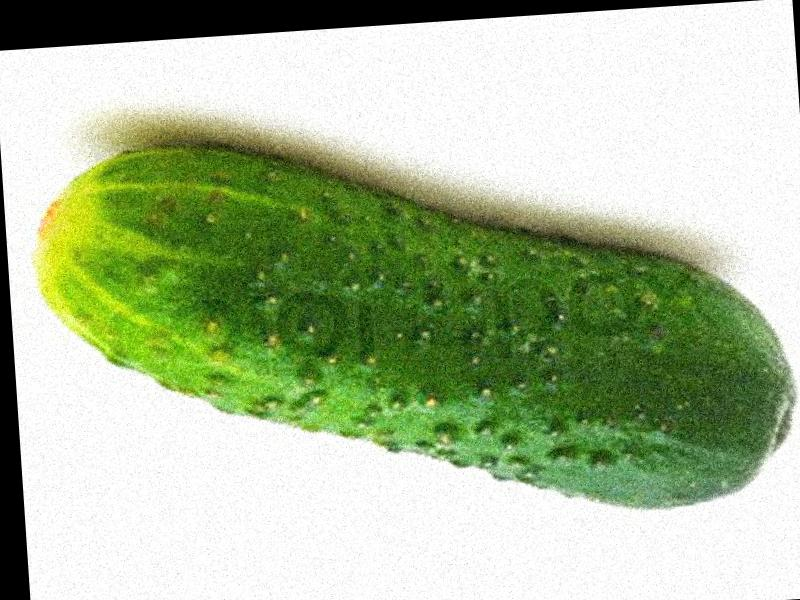Cucumber: (26, 105, 797, 550)
